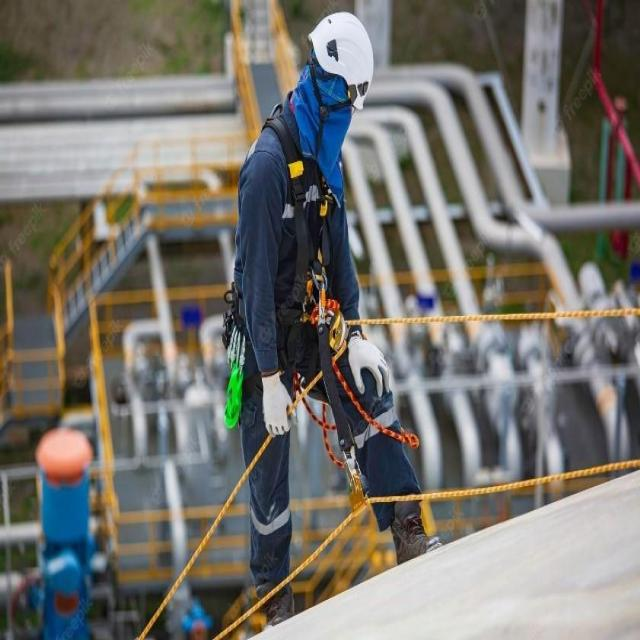Gloves: (338, 320, 396, 402), (255, 362, 298, 447)
Hardhat: (306, 11, 374, 109)
Person: (225, 11, 443, 633)
